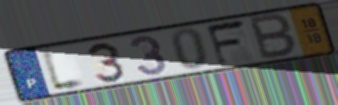0: (169, 27, 213, 72)
3: (84, 39, 128, 85), (127, 34, 169, 79)
B: (248, 12, 299, 62)
F: (204, 18, 249, 69)
L: (38, 45, 91, 94)
